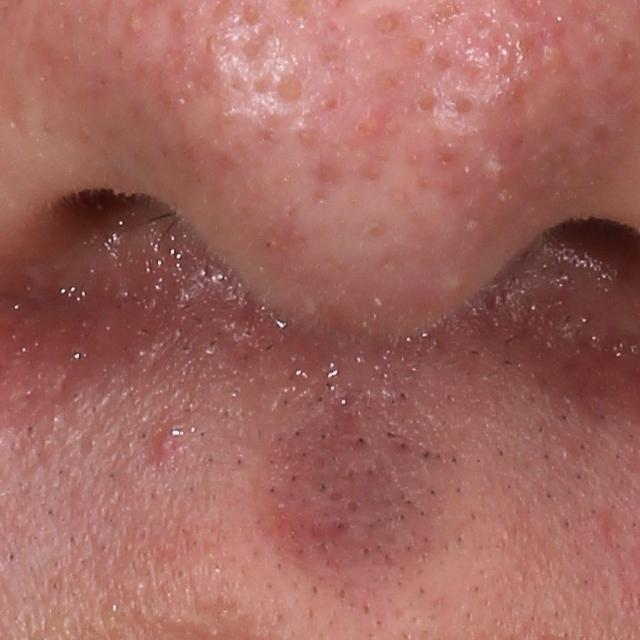papule: (144, 415, 188, 462)
pustule: (473, 149, 514, 190)
